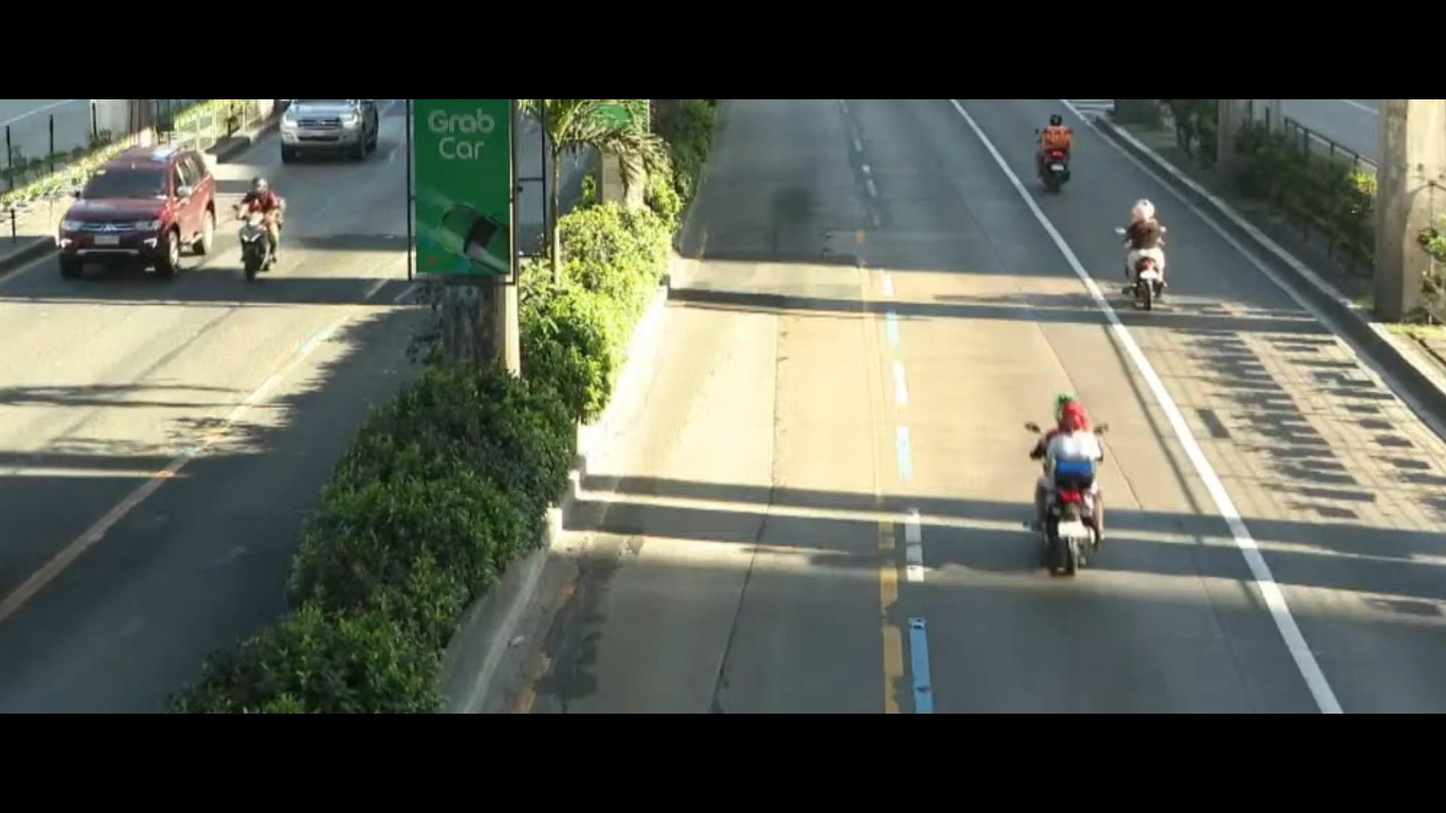Motorcycle: (993, 369, 1117, 592), (1083, 189, 1202, 316), (217, 178, 306, 286), (1013, 96, 1098, 202)
SUV: (45, 136, 230, 286), (260, 101, 390, 169)
